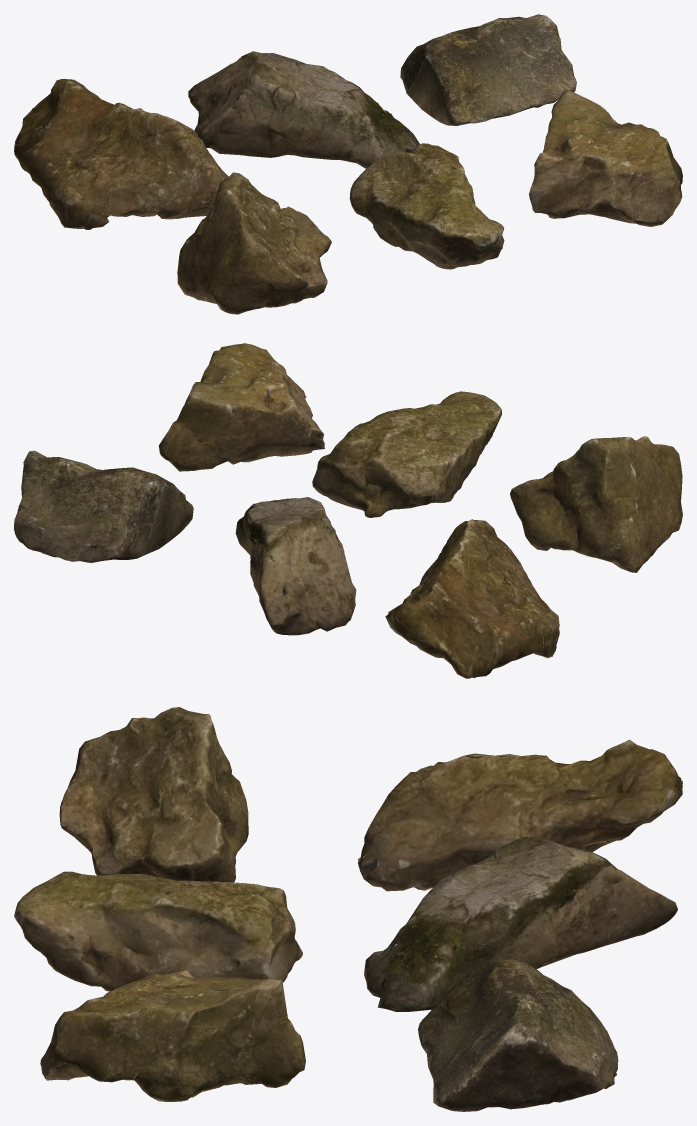
Rendered from rocks.glb.
3 views of the same model, one above another, from view 1: azimuth 30°, elevation 25°; view 2: azimuth 150°, elevation 25°; view 3: azimuth 270°, elevation 25° (orthographic). The views are drawn at different scales.
Parts seen in each view (by area): view 1: rock_moss_set_01_rock01, rock_moss_set_01_rock02, rock_moss_set_01_rock06, rock_moss_set_01_rock04, rock_moss_set_01_rock03, rock_moss_set_01_rock05; view 2: rock_moss_set_01_rock04, rock_moss_set_01_rock01, rock_moss_set_01_rock05, rock_moss_set_01_rock03, rock_moss_set_01_rock06, rock_moss_set_01_rock02; view 3: rock_moss_set_01_rock01, rock_moss_set_01_rock02, rock_moss_set_01_rock05, rock_moss_set_01_rock04, rock_moss_set_01_rock06, rock_moss_set_01_rock03.
Boxes of the visible parts, bbox=[...] form: rock_moss_set_01_rock01: bbox=[14, 79, 228, 229]; rock_moss_set_01_rock02: bbox=[188, 51, 419, 168]; rock_moss_set_01_rock06: bbox=[529, 89, 682, 226]; rock_moss_set_01_rock04: bbox=[177, 172, 331, 314]; rock_moss_set_01_rock03: bbox=[400, 14, 576, 125]; rock_moss_set_01_rock05: bbox=[349, 143, 504, 269]; rock_moss_set_01_rock04: bbox=[510, 436, 682, 572]; rock_moss_set_01_rock01: bbox=[385, 519, 559, 678]; rock_moss_set_01_rock05: bbox=[312, 391, 501, 517]; rock_moss_set_01_rock03: bbox=[14, 450, 193, 563]; rock_moss_set_01_rock06: bbox=[159, 343, 324, 471]; rock_moss_set_01_rock02: bbox=[235, 497, 356, 635]; rock_moss_set_01_rock01: bbox=[357, 739, 682, 891]; rock_moss_set_01_rock02: bbox=[364, 836, 677, 1011]; rock_moss_set_01_rock05: bbox=[14, 871, 302, 991]; rock_moss_set_01_rock04: bbox=[59, 707, 248, 882]; rock_moss_set_01_rock06: bbox=[40, 970, 305, 1101]; rock_moss_set_01_rock03: bbox=[418, 956, 618, 1111].
Size of the model in its own units: 8 by 1.77 by 6.95.
Materials: 1 (1 with a texture image).
